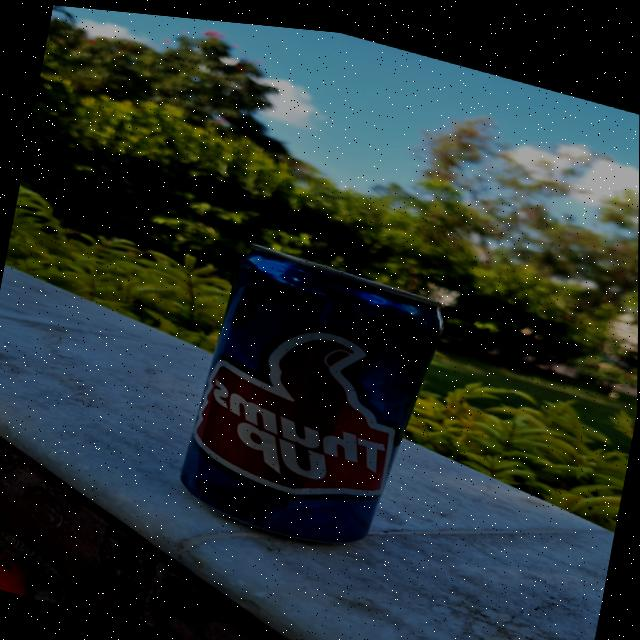Thums Up: (170, 229, 439, 557)
